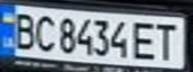3: (90, 17, 112, 57)
4: (109, 17, 133, 60), (75, 16, 93, 56)
8: (54, 14, 78, 54)
B: (6, 9, 39, 51)
C: (30, 12, 57, 53)
E: (130, 18, 163, 61)
T: (151, 19, 184, 62)
